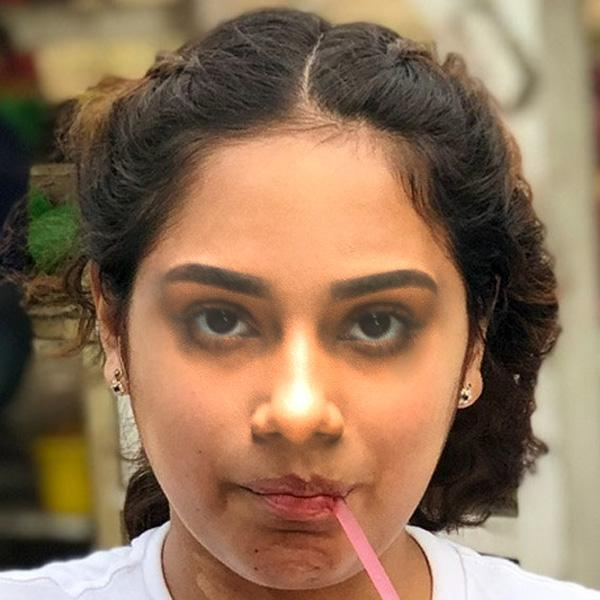Eyes: (170, 292, 268, 358), (328, 295, 428, 359)
